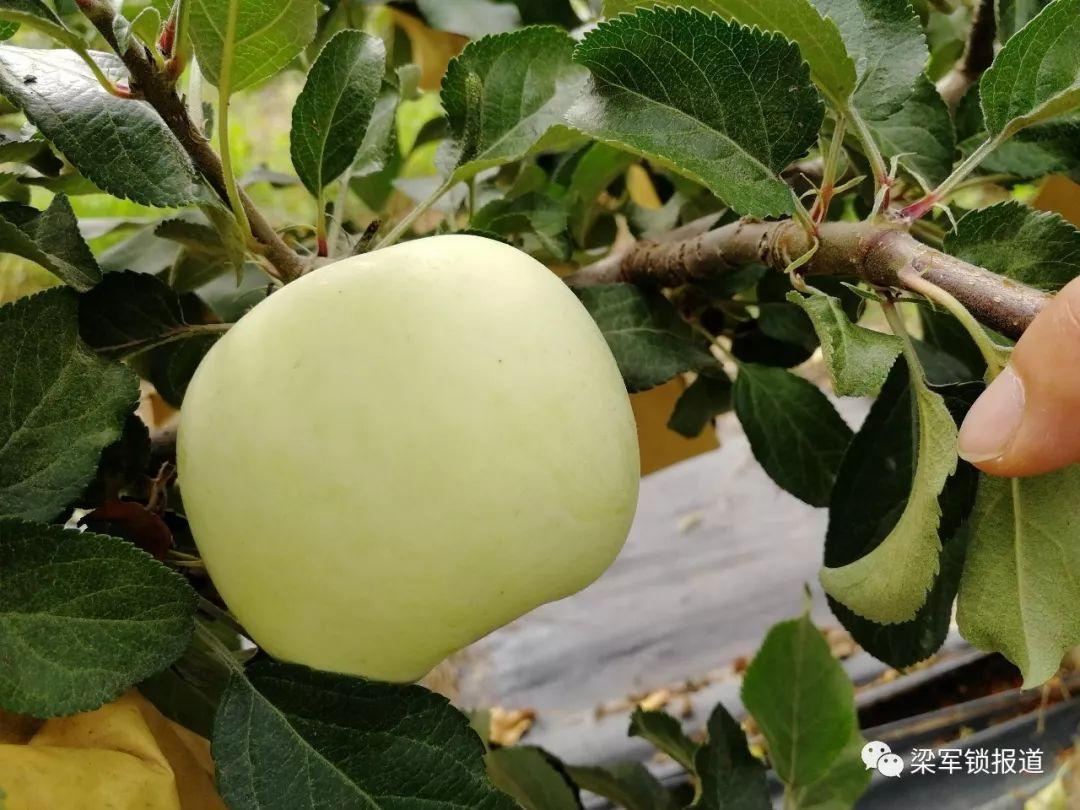apple: (172, 224, 648, 685)
